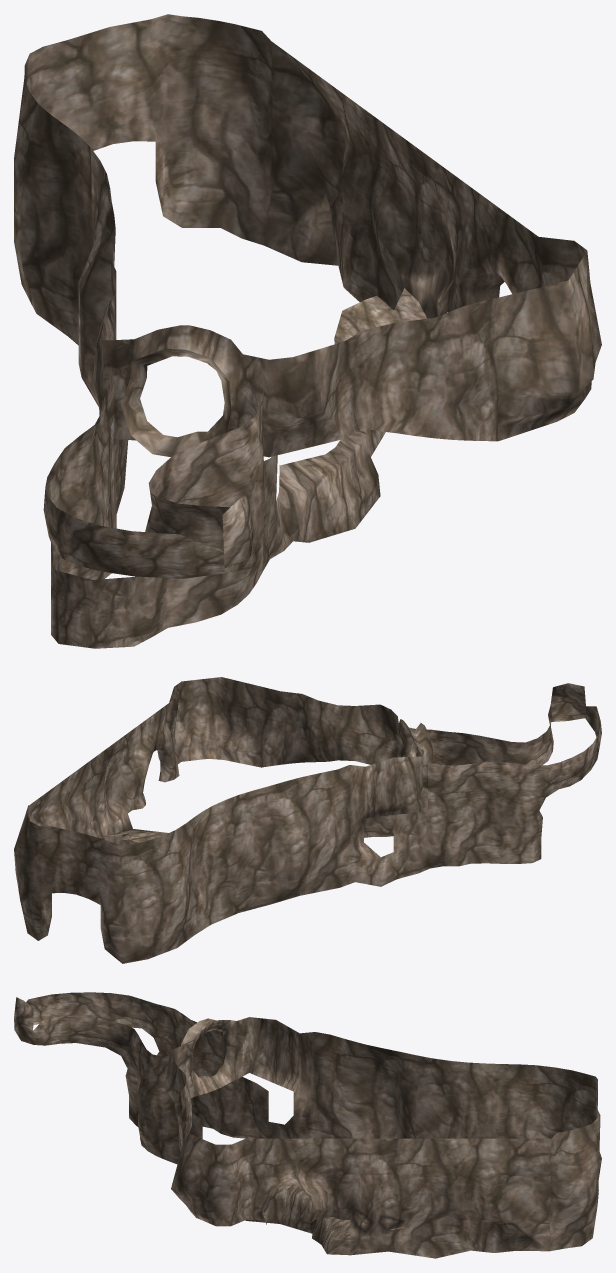
The model's file is EKH_BARRELROOM_PS_JA1_JA_OBJECT47.fbx.
3 views of the same model, one above another, from view 1: azimuth 30°, elevation 25°; view 2: azimuth 150°, elevation 25°; view 3: azimuth 270°, elevation 25° (orthographic). The views are drawn at different scales.
Visible parts, largest first — view 1: EKH_BARRELROOM_PS_JA1_JA_OBJECT47; view 2: EKH_BARRELROOM_PS_JA1_JA_OBJECT47; view 3: EKH_BARRELROOM_PS_JA1_JA_OBJECT47.
Boxes of the visible parts, x1=… form: EKH_BARRELROOM_PS_JA1_JA_OBJECT47: x1=14, y1=14, x2=601, y2=648; EKH_BARRELROOM_PS_JA1_JA_OBJECT47: x1=14, y1=677, x2=601, y2=963; EKH_BARRELROOM_PS_JA1_JA_OBJECT47: x1=14, y1=992, x2=601, y2=1258.
Size of the model in its own units: 279525 by 102695 by 393182.
1 material, 1 textured.
